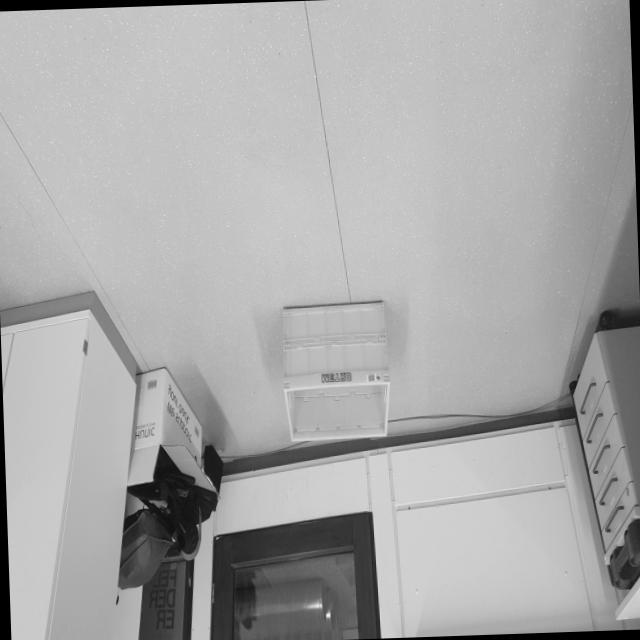box: (273, 279, 397, 452)
